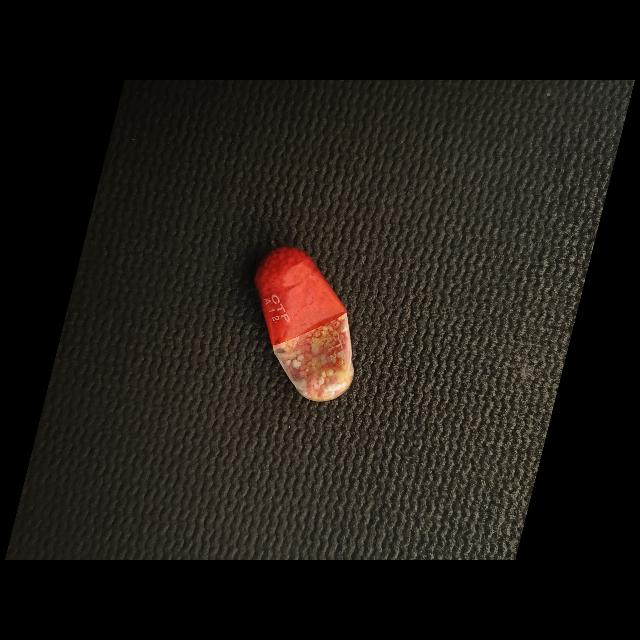Defective Capsule: (254, 247, 354, 402)
